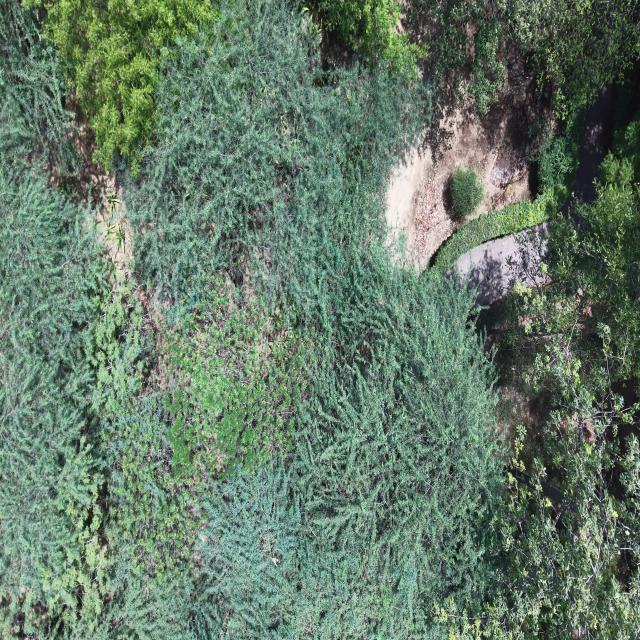DRY_AREA: (386, 52, 547, 270), (44, 94, 160, 330), (387, 109, 530, 270), (45, 94, 131, 278), (457, 222, 547, 305), (458, 223, 546, 304), (563, 86, 612, 215), (564, 84, 613, 213)
PATHWAYS: (563, 85, 613, 214)
VEGETATION_TREE: (0, 0, 639, 639), (3, 5, 499, 637), (128, 8, 499, 636), (105, 272, 500, 637), (438, 144, 639, 638), (127, 5, 430, 312), (437, 263, 639, 638), (0, 3, 113, 636), (435, 367, 639, 639), (0, 167, 111, 634), (294, 0, 639, 124), (522, 112, 638, 384), (43, 0, 214, 173), (158, 277, 305, 475), (403, 0, 639, 123), (541, 114, 638, 381), (434, 112, 583, 272), (550, 120, 639, 379), (434, 120, 581, 273), (510, 0, 639, 122), (405, 0, 511, 114), (0, 2, 70, 170), (432, 191, 557, 274), (312, 0, 427, 74), (538, 120, 582, 208), (611, 67, 639, 183), (451, 167, 484, 220)
